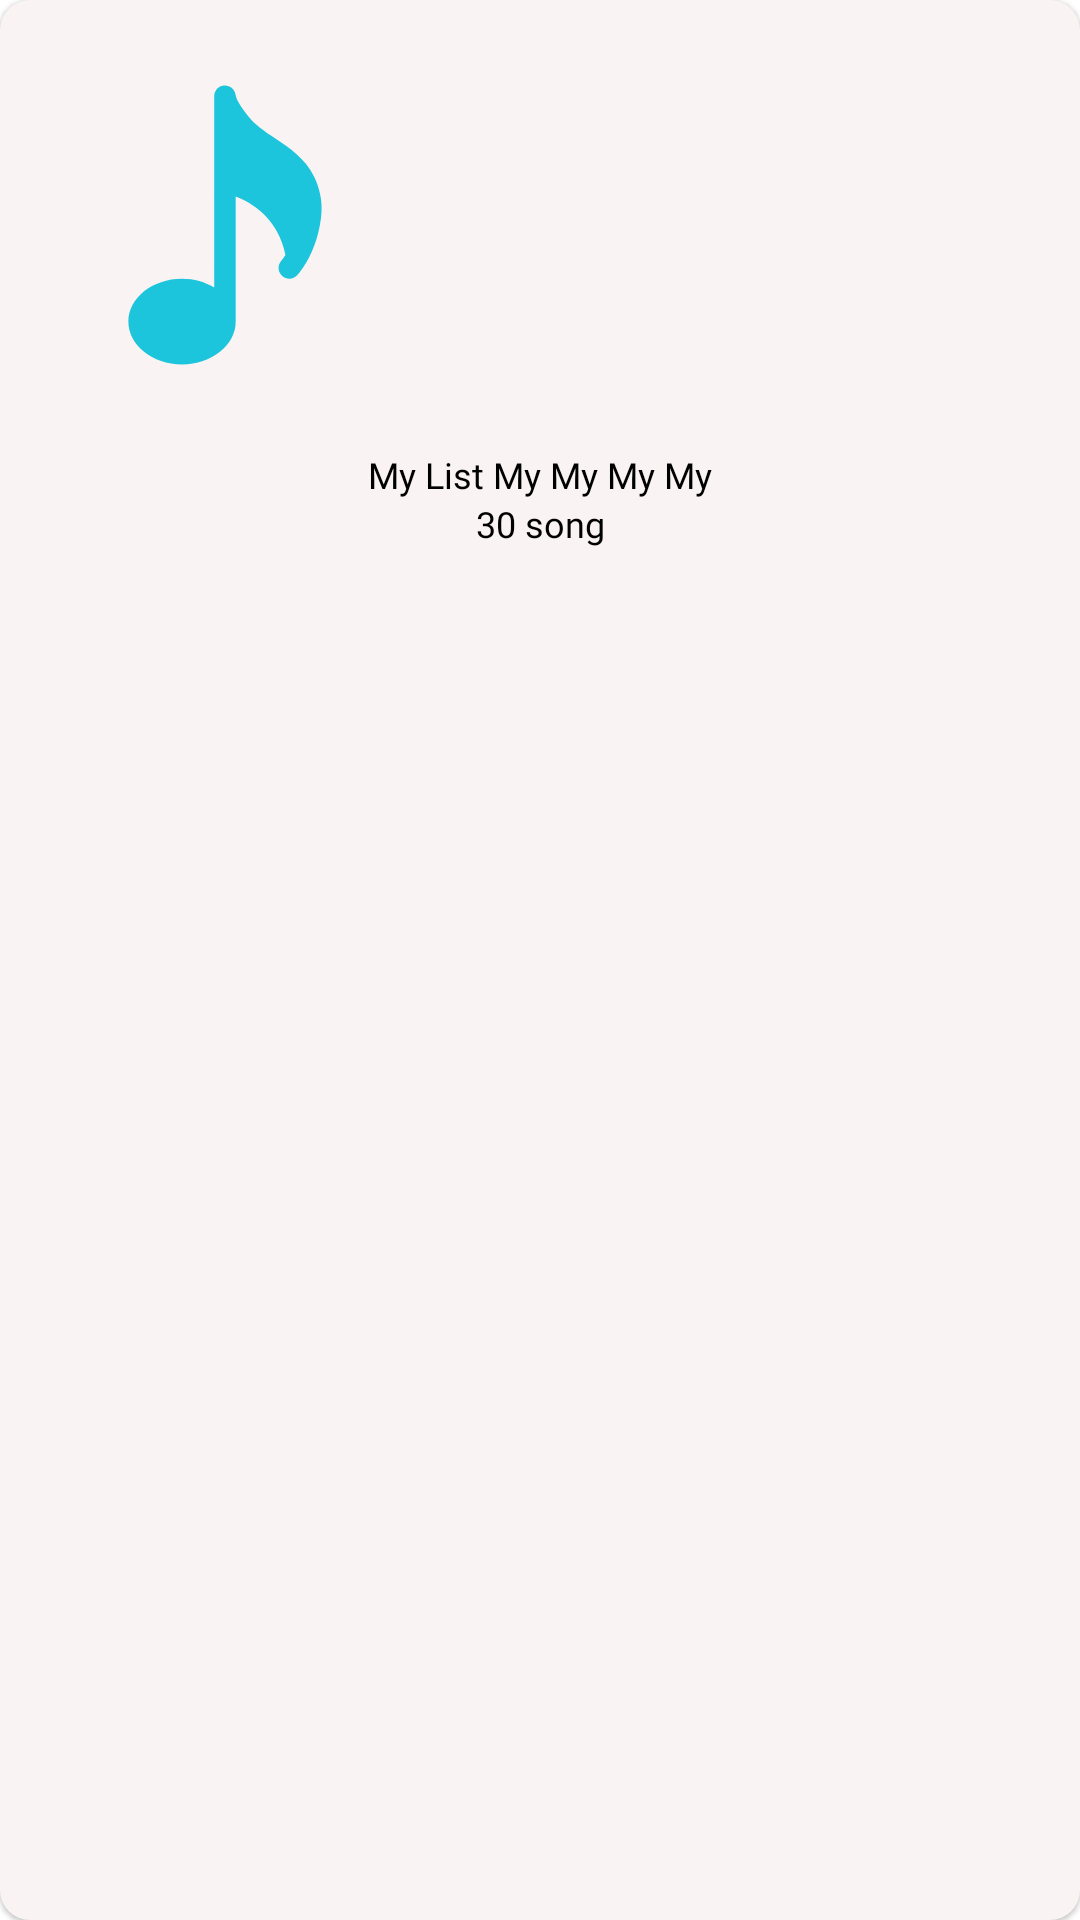

Where to tap for icons on this 1080×1920 app screen, as (x,y):
musical note: (225,225)
